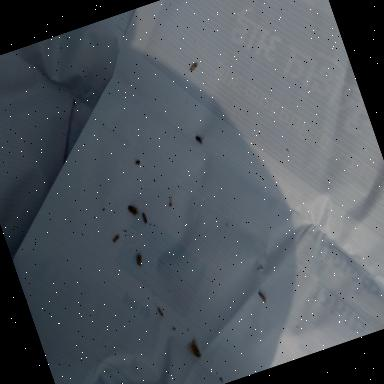pbw: (188, 339, 204, 362), (139, 210, 151, 228), (128, 204, 142, 218), (258, 290, 269, 305), (188, 60, 201, 72), (135, 254, 145, 268), (166, 196, 176, 207), (112, 234, 122, 243), (158, 306, 164, 317)
